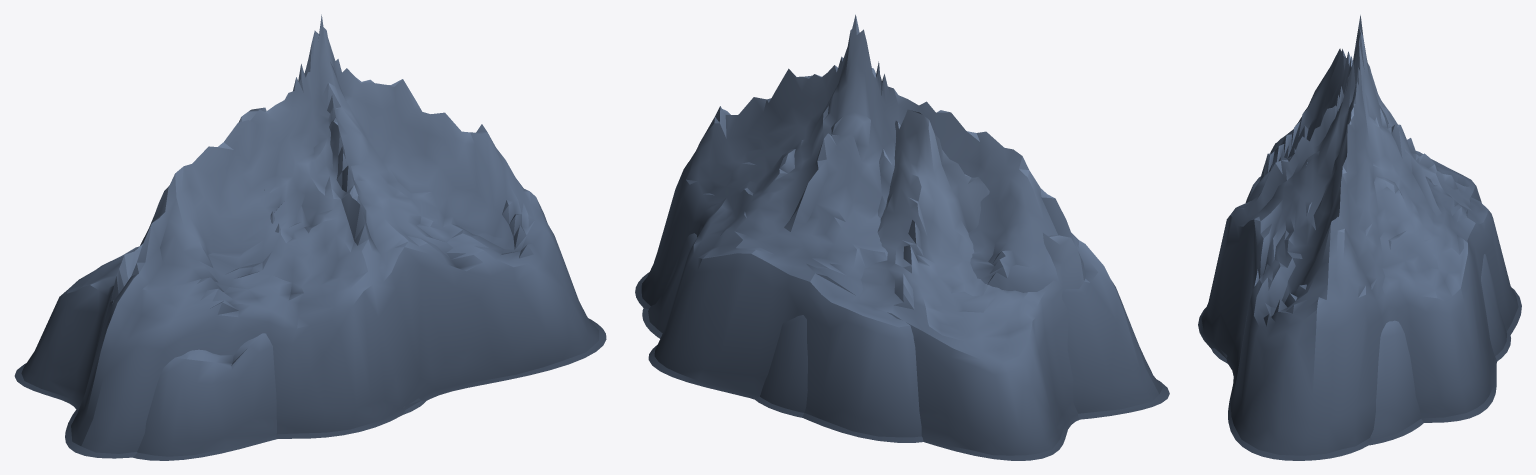
File: gorge_nature.glb
3 renders of one model, left to right at view 1: azimuth 30°, elevation 25°; view 2: azimuth 150°, elevation 25°; view 3: azimuth 270°, elevation 25°, orthographic. The views are drawn at different scales.
Visible parts, largest first — view 1: Distant_Mountain_B, Distant_Mountain_A; view 2: Distant_Mountain_B, Distant_Mountain_A; view 3: Distant_Mountain_B, Distant_Mountain_A.
Part boxes in pixels (x1,y1,x2,y2): Distant_Mountain_B: [65, 14, 606, 458]; Distant_Mountain_A: [14, 107, 426, 460]; Distant_Mountain_B: [635, 14, 1169, 442]; Distant_Mountain_A: [642, 109, 1085, 460]; Distant_Mountain_B: [1198, 15, 1521, 460]; Distant_Mountain_A: [1211, 64, 1510, 445].
Size of the model in its own units: 54 by 34.13 by 30.
